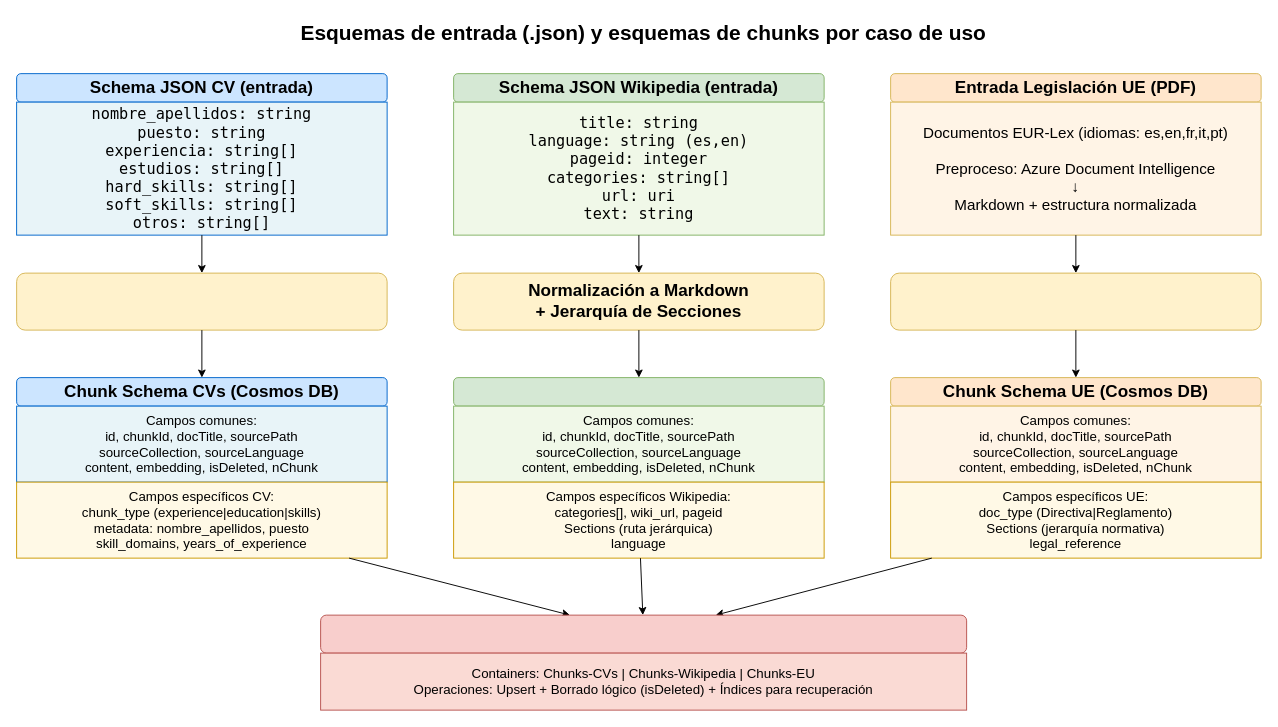
The diagram is 1278 pixels wide and 727 high, and some of its shapes have lost their labels. Each missing label, with the centre of its shape:
Azure Cosmos DB: the point at 643,633
Chunk Schema Wikipedia (Cosmos DB): the point at 638,391
Chunking Semántico (Experiencia | Estudios | Skills): the point at 201,301
Layout PDF + Header Split Chunking por Cabeceras: the point at 1075,301
